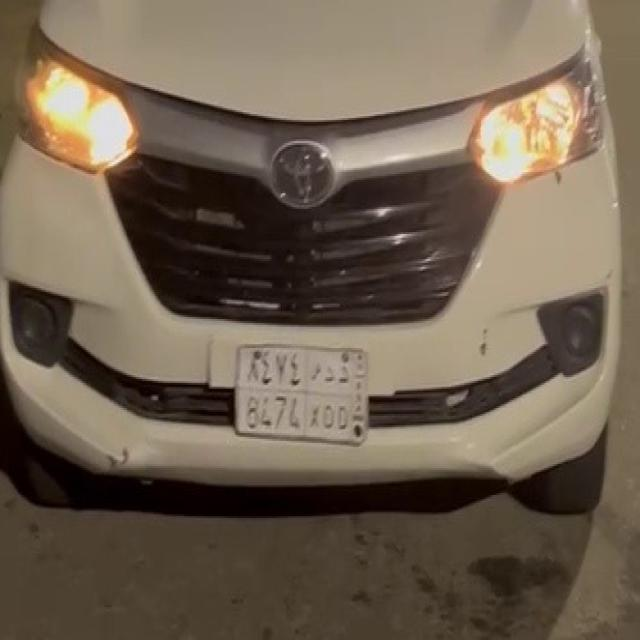Car-plate: (226, 326, 373, 457)
